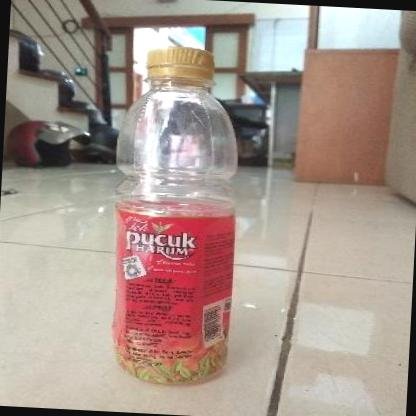plastic_bottles: (97, 38, 251, 394)
